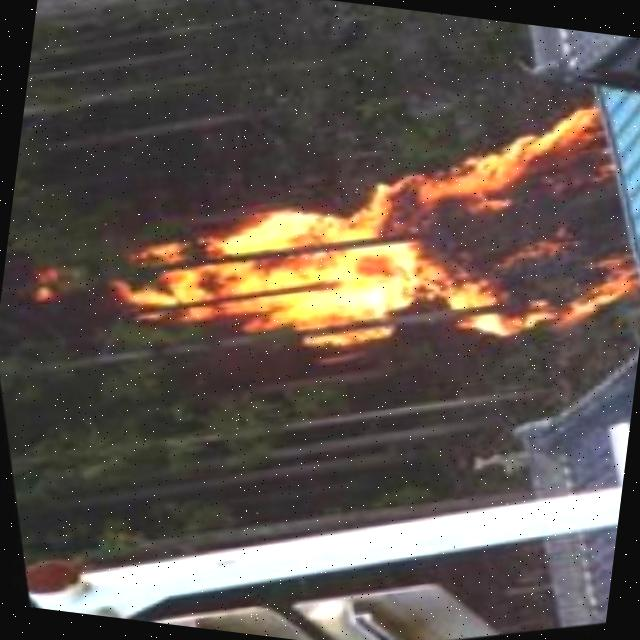fire: (102, 46, 640, 406)
